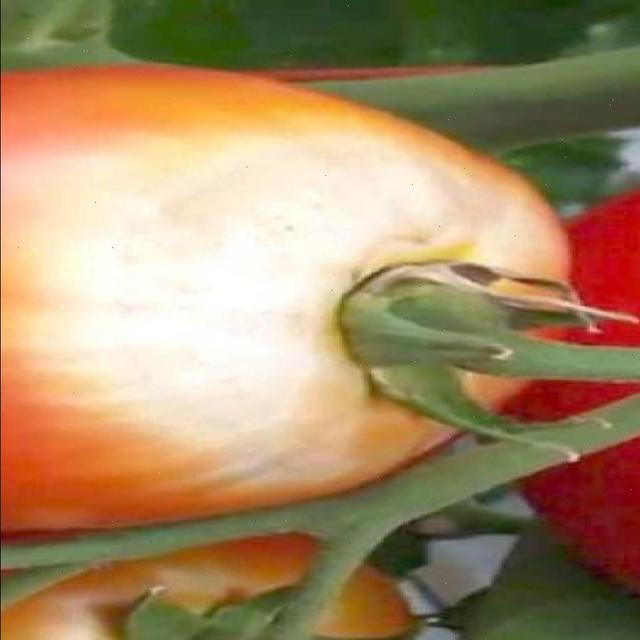Sunscald Fruit: (6, 86, 364, 326)
